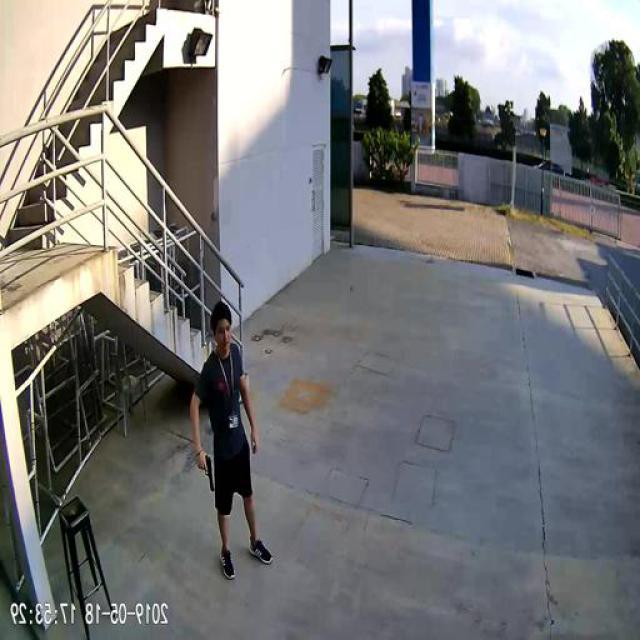Gun: (205, 452, 216, 492)
